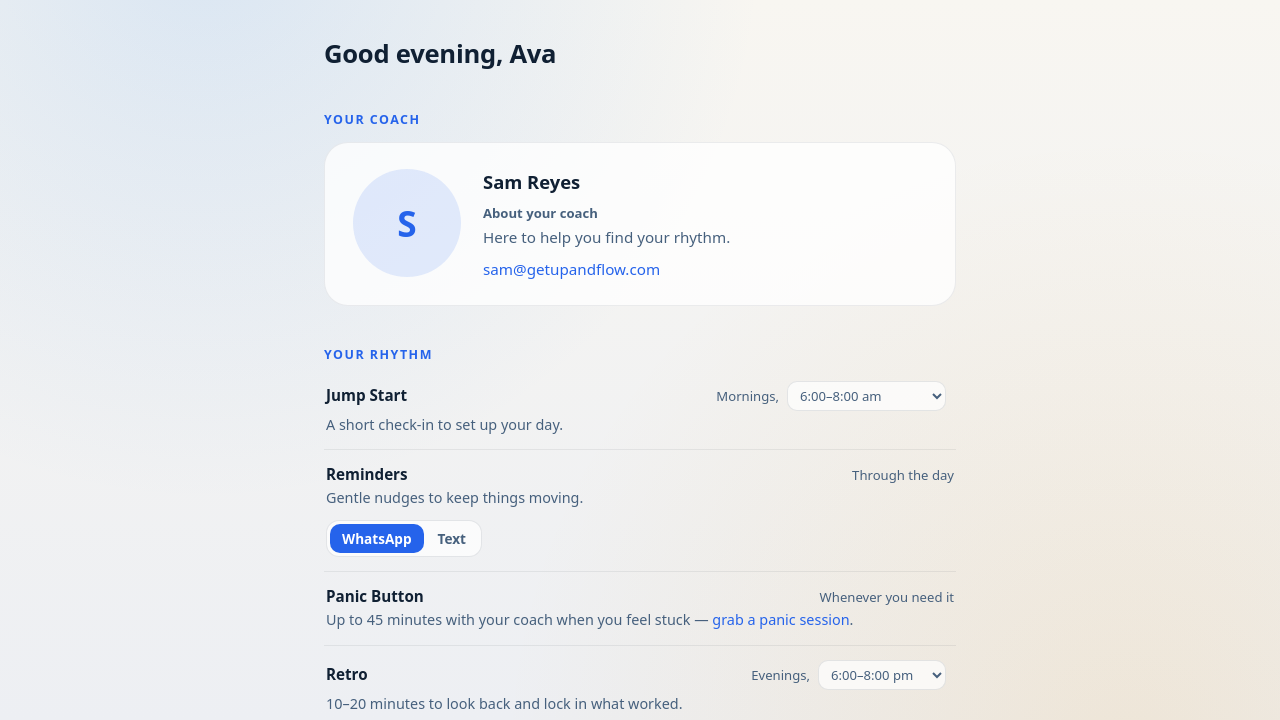
Test: Reminders channel toggle › reflects the saved contact_method and PATCHes quietly on change
Click the button "Text": (452, 538) [426,524,478,553]
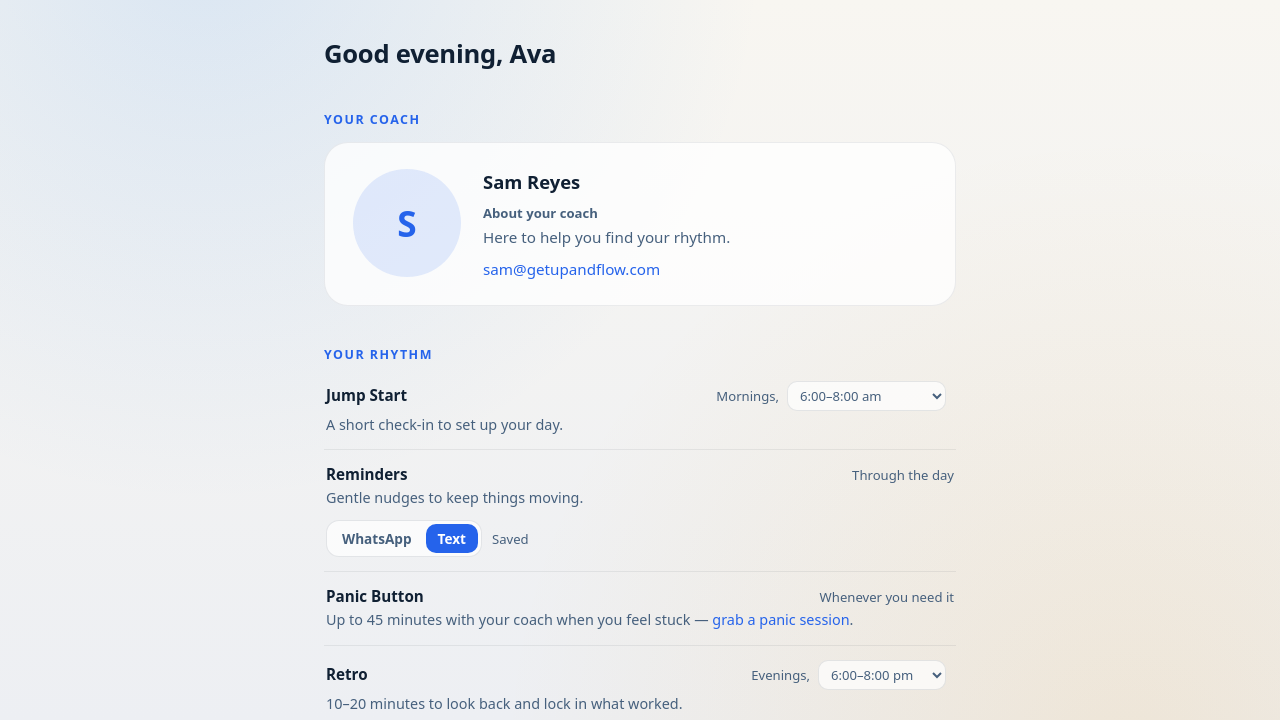
expect the message reads "Saved": met, box [492,530,529,548]
